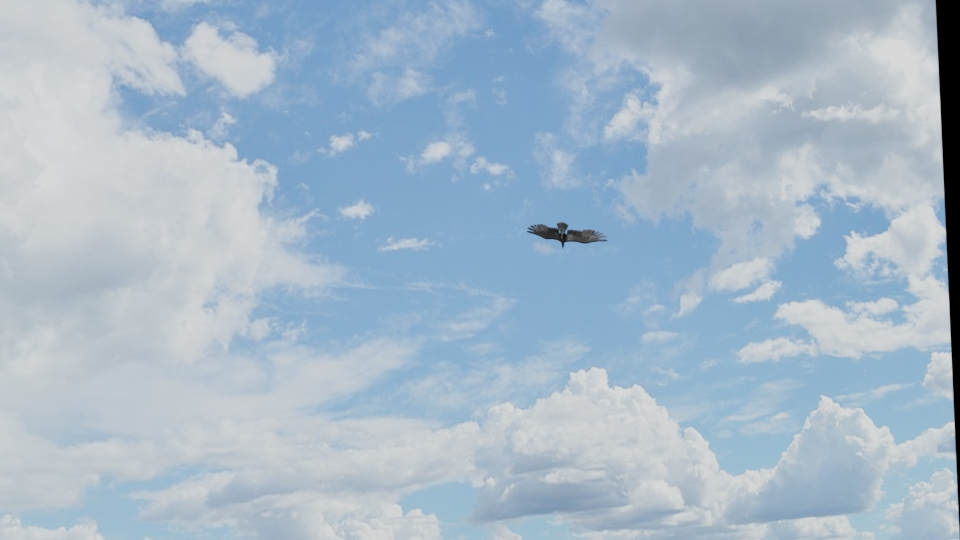bird: (529, 219, 607, 248)
